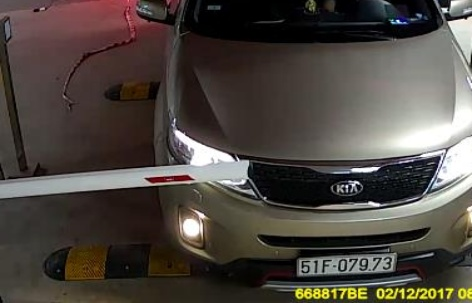plate: (291, 252, 400, 279)
